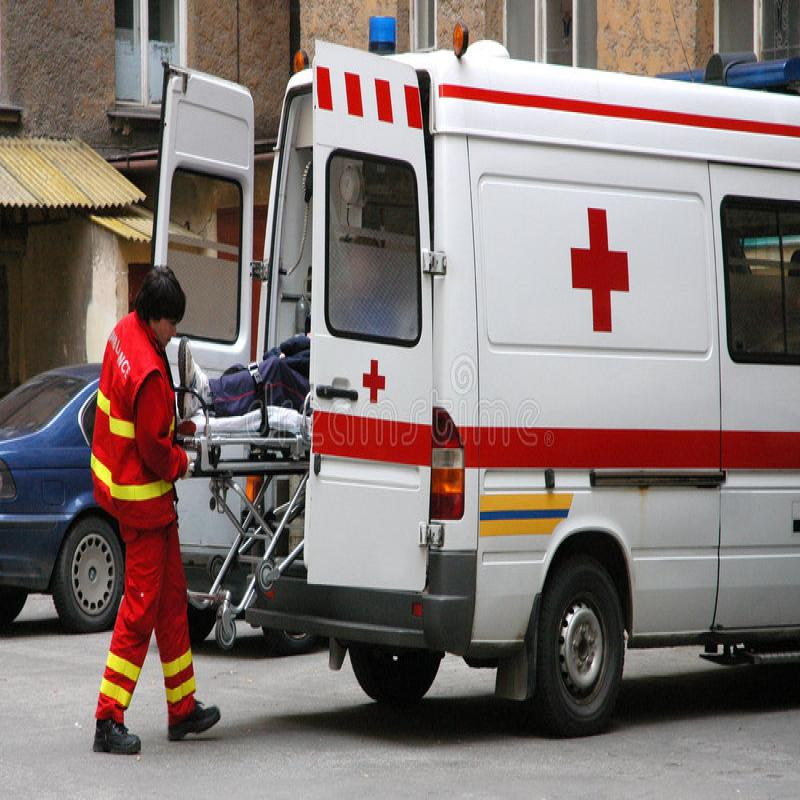ambulance: (271, 15, 800, 722)
